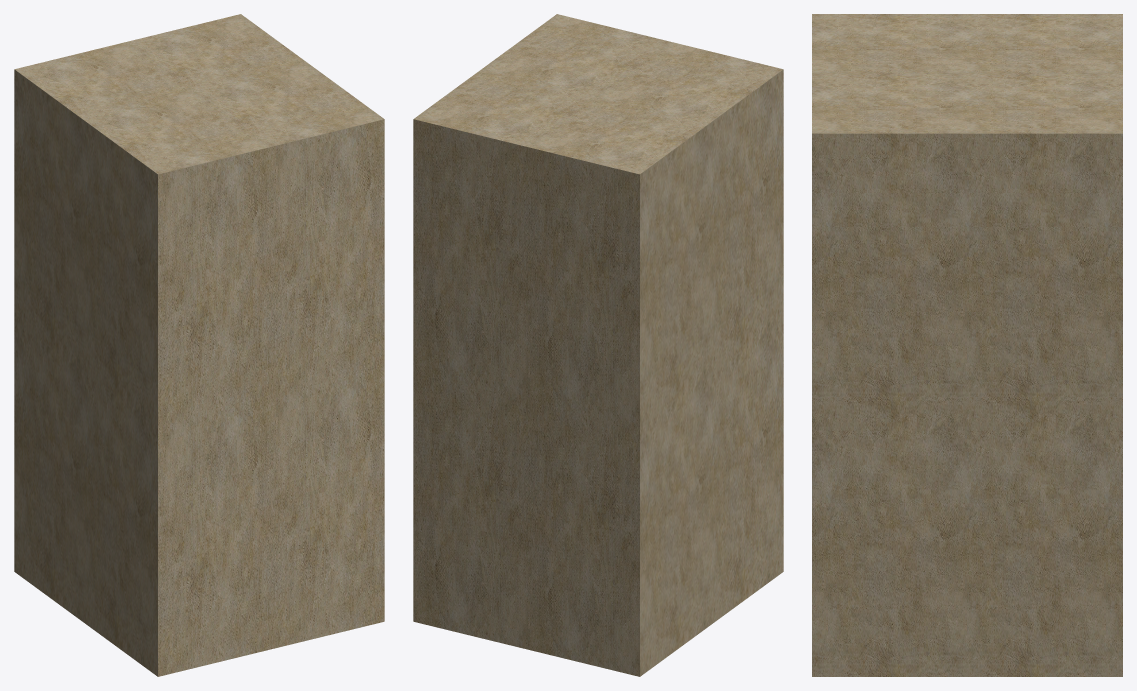
File: thm_nboo_imprv_pillar_ornate_pillar_s01_l1.fbx
3 renders of one model, left to right at view 1: azimuth 30°, elevation 25°; view 2: azimuth 150°, elevation 25°; view 3: azimuth 270°, elevation 25°, orthographic. The views are drawn at different scales.
Parts seen in each view (by area): view 1: mesh_node; view 2: mesh_node; view 3: mesh_node.
Boxes of the visible parts, x1=… form: mesh_node: x1=14, y1=14, x2=384, y2=676; mesh_node: x1=413, y1=14, x2=783, y2=676; mesh_node: x1=812, y1=14, x2=1122, y2=676.
Size of the model in its own units: 0.7437 by 1.58 by 0.8169.
